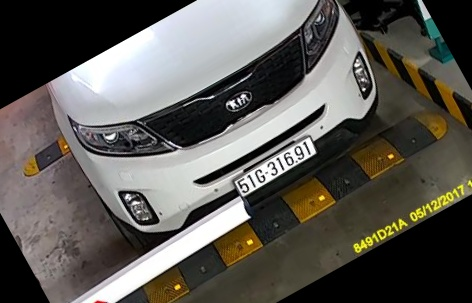plate: (225, 139, 327, 200)
